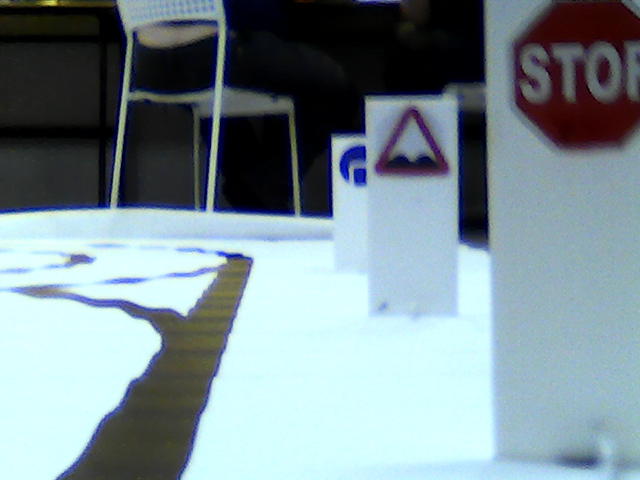Nerov: (378, 108, 451, 173)
Stop: (509, 3, 638, 155)
